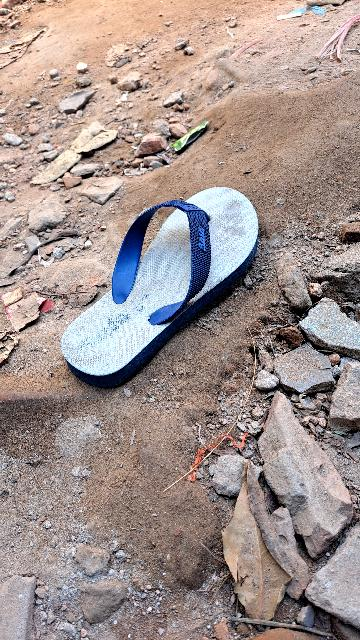sandal: (14, 137, 283, 405)
